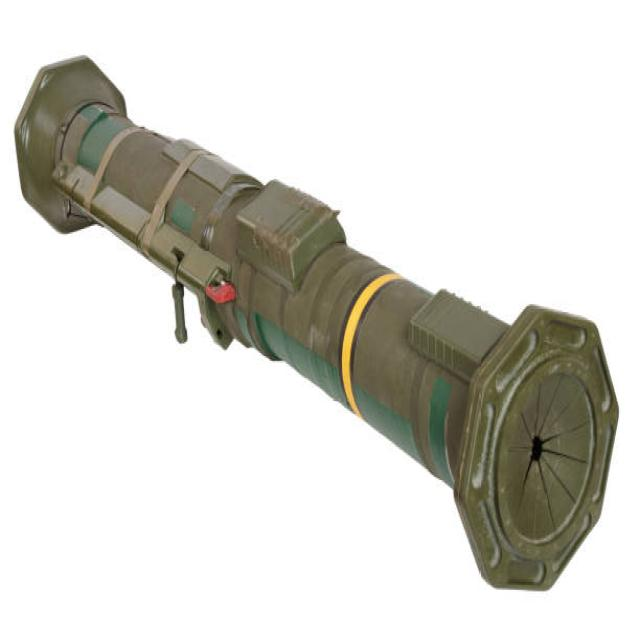bazooka: (10, 42, 629, 612)
